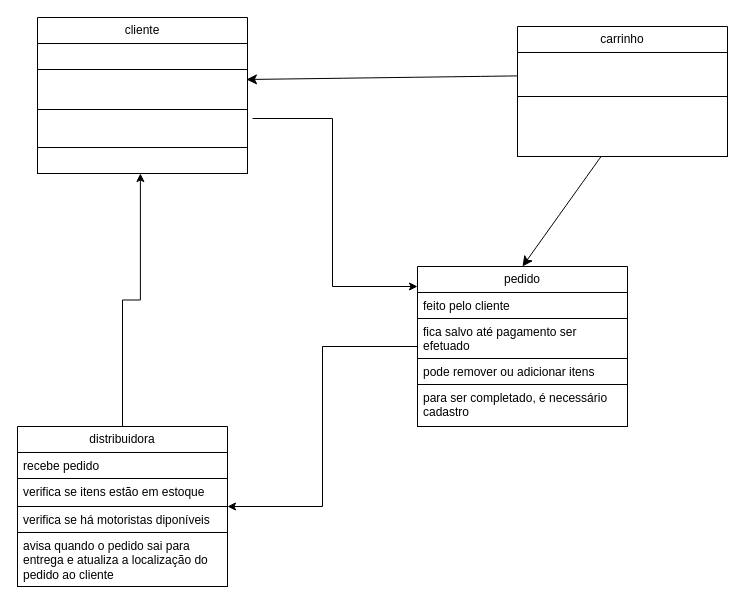
The diagram is 745 pixels wide and 607 high, and some of its shapes have lost their labels. The centre of each missing label's shape, as x and y in pixels:
adiciona e remove itens do carrinho: pixel 142 160
após adicionar todos os itens desejados, o total é apresentado ao usuário: pixel 622 126
diferentes abas e páginas para cada tipo de roupa: pixel 142 128
livre pesquisar para diferentes opções de roupas: pixel 142 89
o cliente pode adicionar e remover itens ao carrinho: pixel 622 74
pode explorar o site: pixel 142 56
